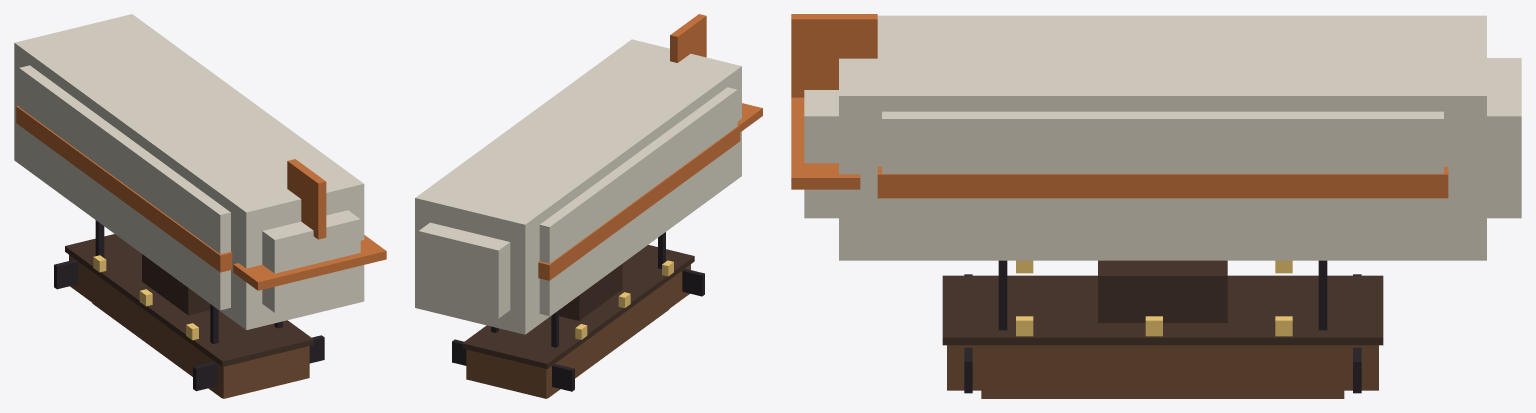
The model's file is barge.glb.
3 views of the same model, side by side, from view 1: azimuth 30°, elevation 25°; view 2: azimuth 150°, elevation 25°; view 3: azimuth 270°, elevation 25° (orthographic). The views are drawn at different scales.
Parts seen in each view (by area): view 1: barge; view 2: barge; view 3: barge.
Part boxes in pixels (x1,y1,x2,y2): barge: [14, 14, 386, 398]; barge: [415, 14, 762, 398]; barge: [791, 14, 1521, 398].
Bounding box in the file's own units: 5.3 × 9.2 × 16.9.
Materials: 1 (1 with a texture image).
